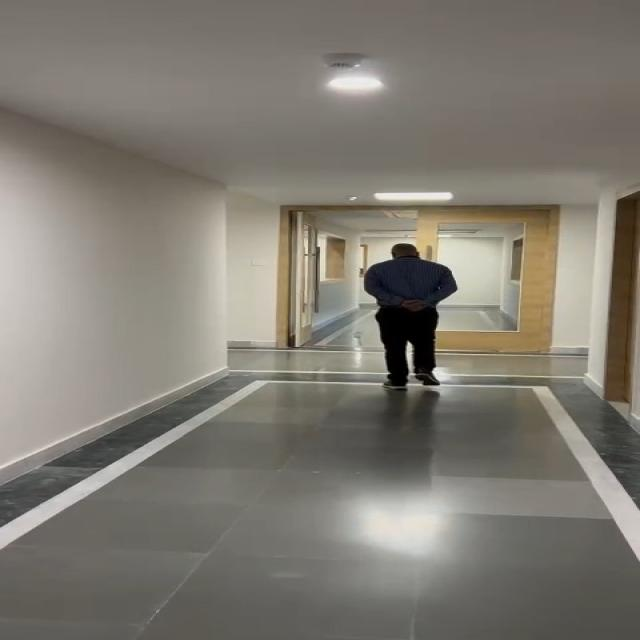door: (427, 202, 558, 352)
floor: (209, 379, 609, 640), (0, 483, 204, 640)
moving_object: (353, 240, 464, 394)
wall: (0, 107, 225, 397)
